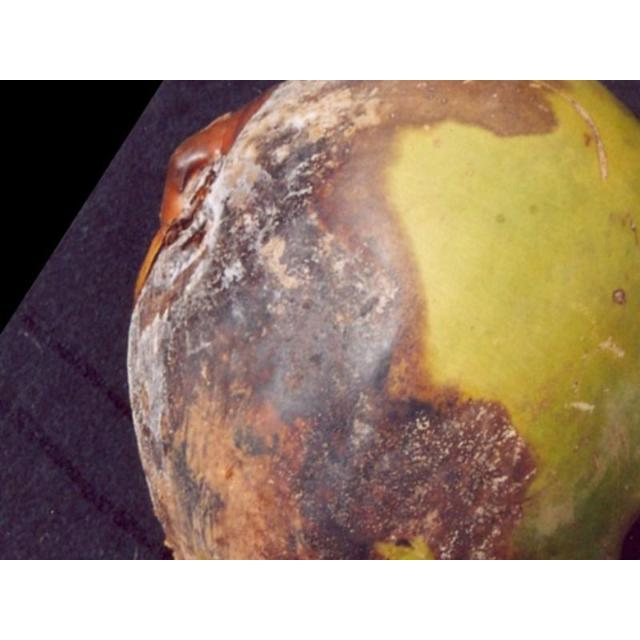damaged: (127, 80, 639, 559)
